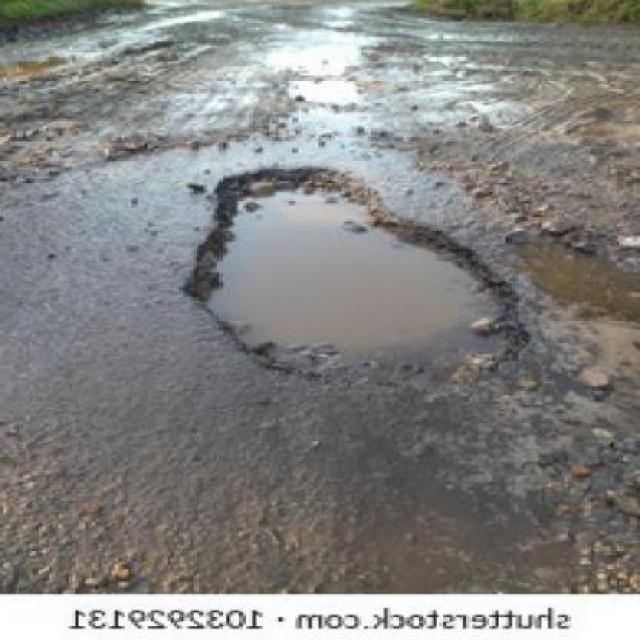pothole: (178, 167, 526, 389)
